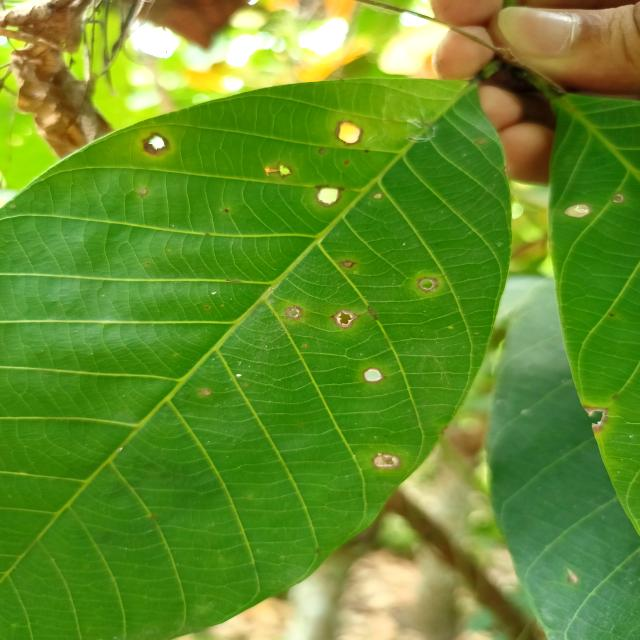Colletotrichum: (334, 120, 364, 146), (142, 132, 170, 156), (314, 185, 344, 207), (330, 309, 360, 329), (371, 452, 402, 469), (362, 367, 385, 383), (416, 277, 439, 293), (284, 305, 303, 320), (612, 193, 624, 203), (372, 192, 383, 200), (318, 148, 326, 154)
